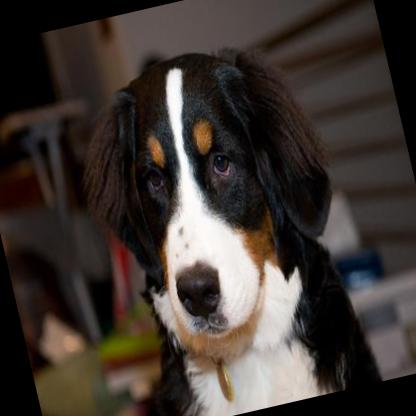Bernese_mountain_dog: (55, 24, 382, 416)
